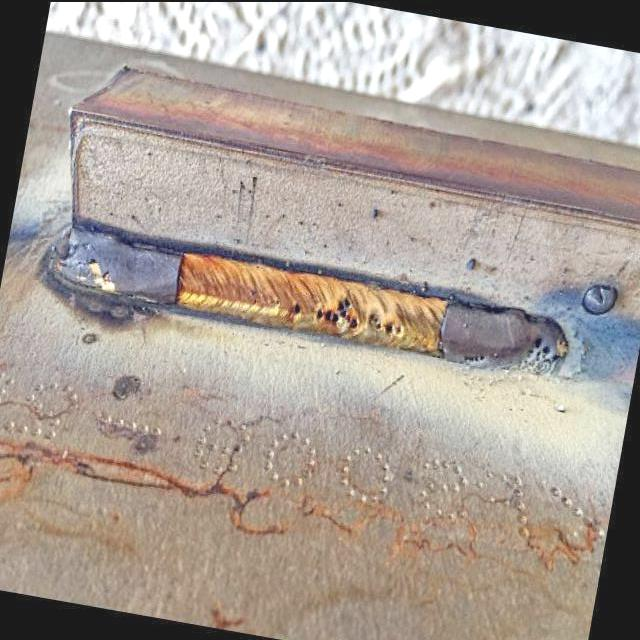defect: (310, 286, 361, 329), (521, 334, 553, 368), (367, 311, 405, 337), (462, 346, 494, 368), (290, 299, 306, 317)
